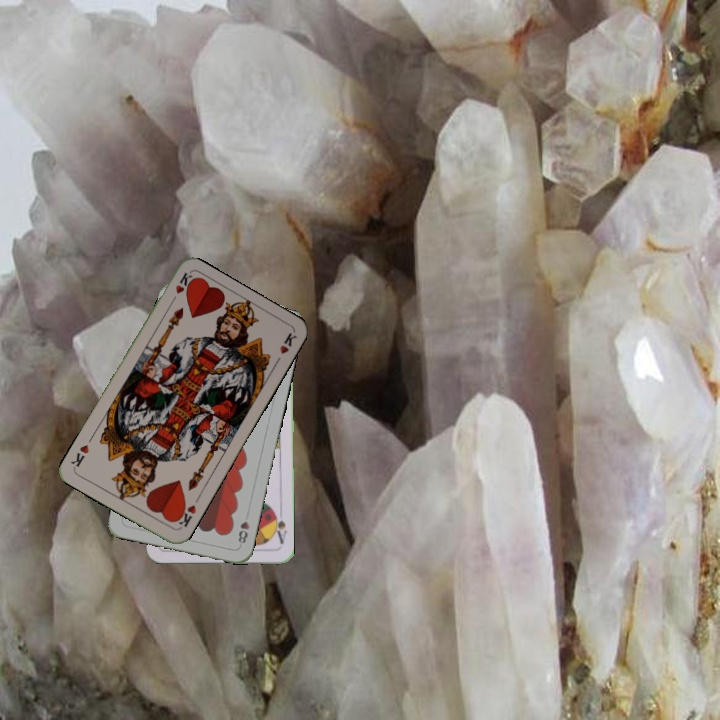H8: (234, 517, 252, 546)
HK: (166, 268, 195, 307), (171, 500, 199, 531)
SA: (270, 507, 289, 546)
